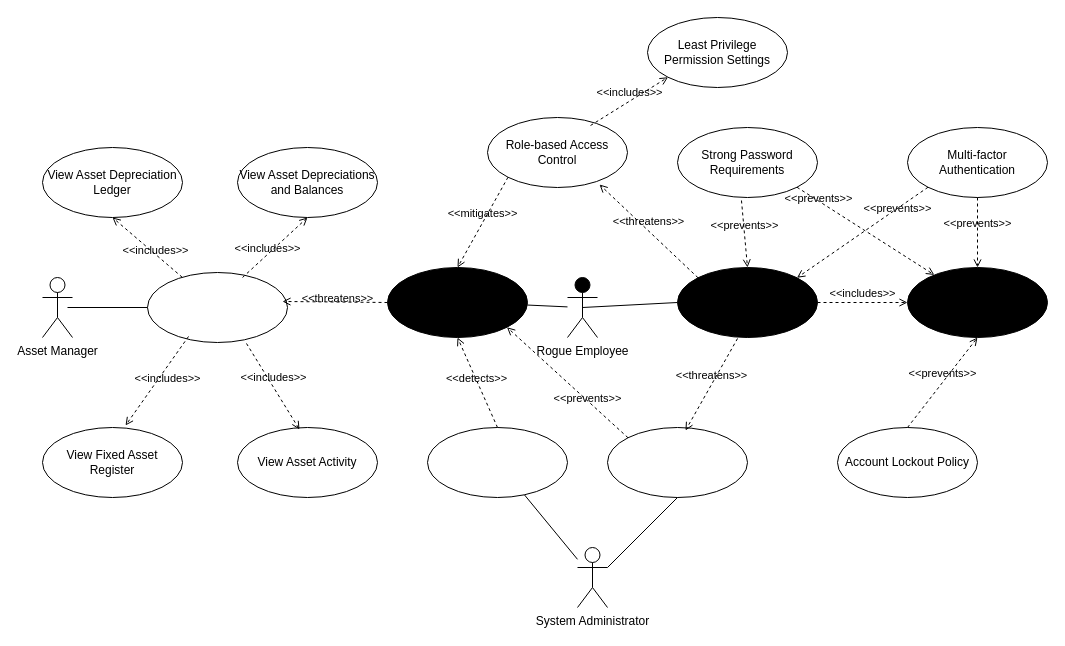
The diagram is 1065 pixels wide and 646 high, and some of its shapes have lost their labels. Here are the shapes that lost their labels. From the top down, the centre of each, then its label:
(217,307): View Asset Reports
(457,302): Leak Sensitive Financial Information
(747,302): Steal User Account
(977,302): Brute-force Password Attack
(497,462): Monitor User Activity
(677,462): Revoke User Account Permissions
